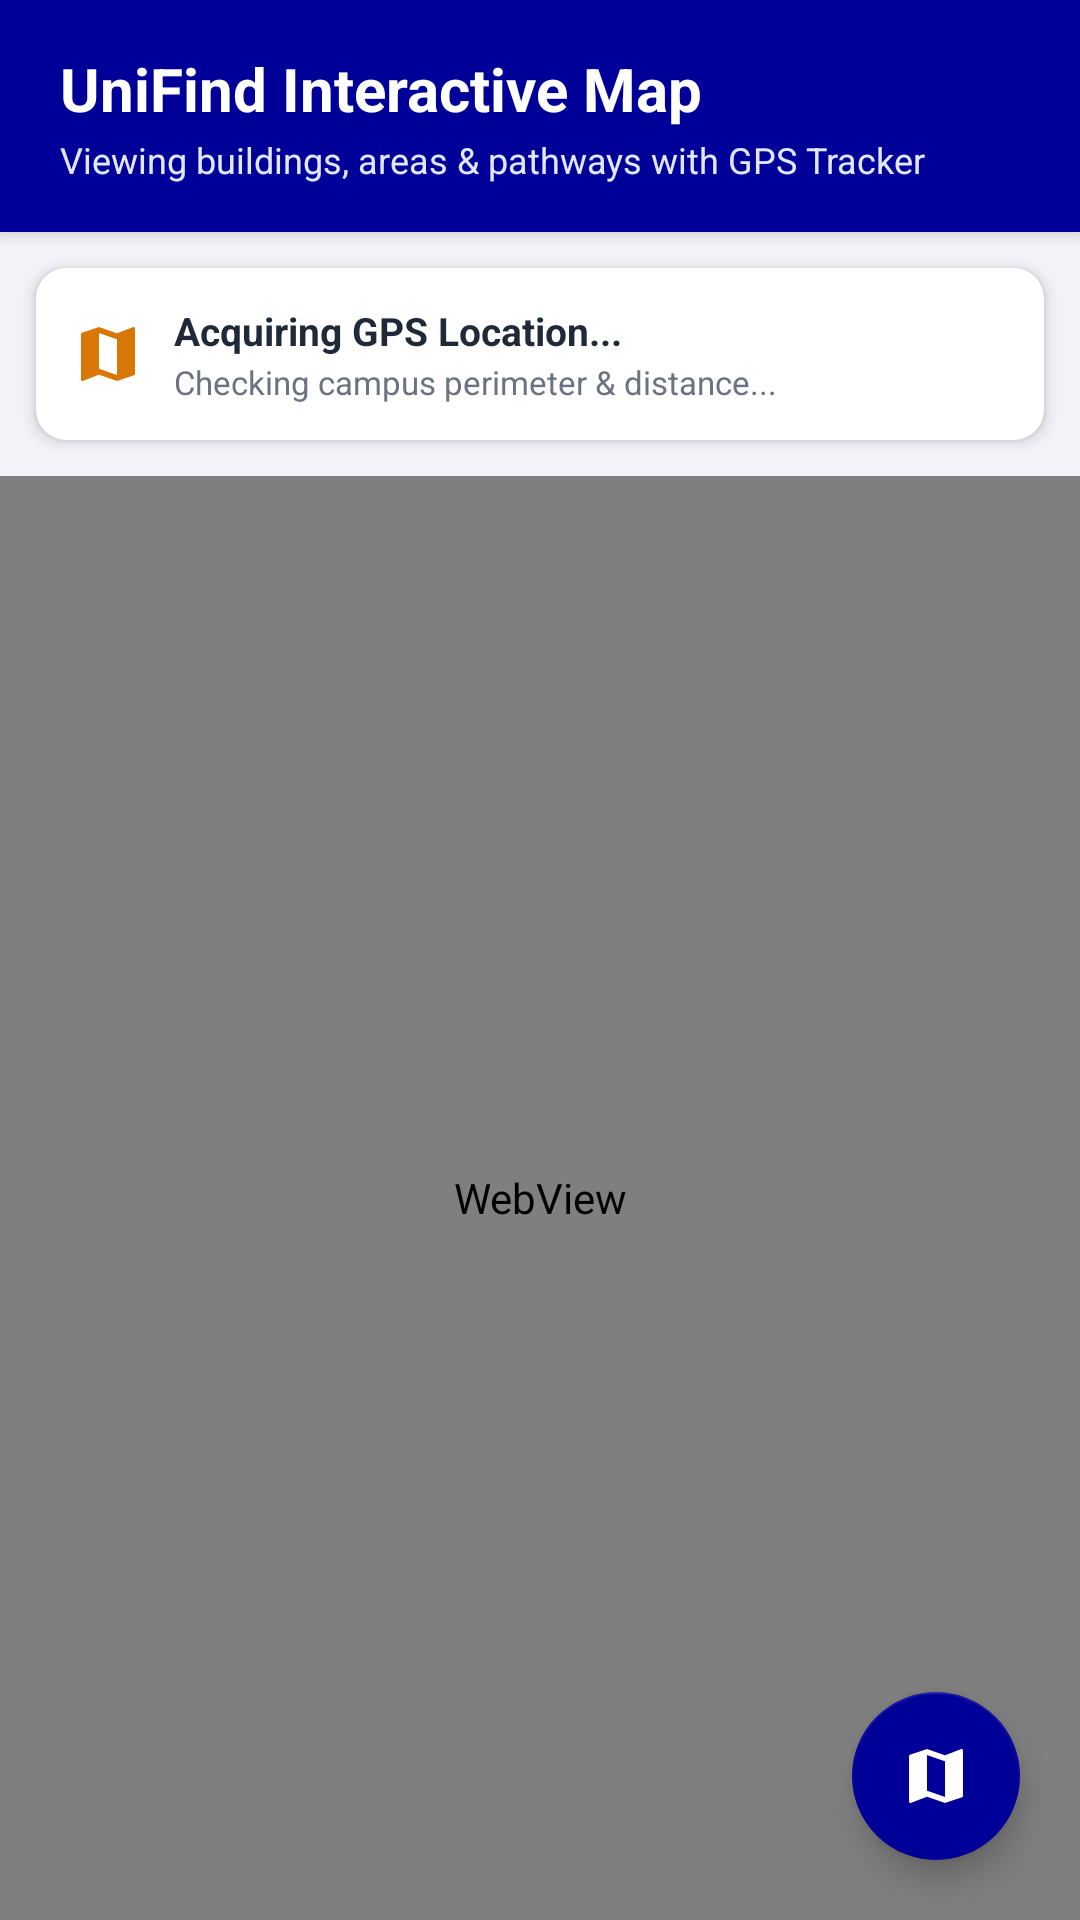

Named icons in this screenshot (1080x1920) and their centers, point (x, y):
map: point (108, 354)
